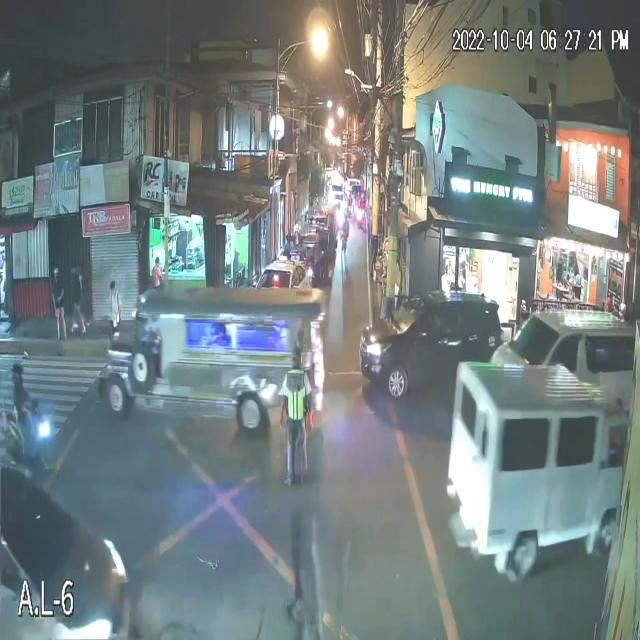Full-Faced: (10, 359, 26, 388)
